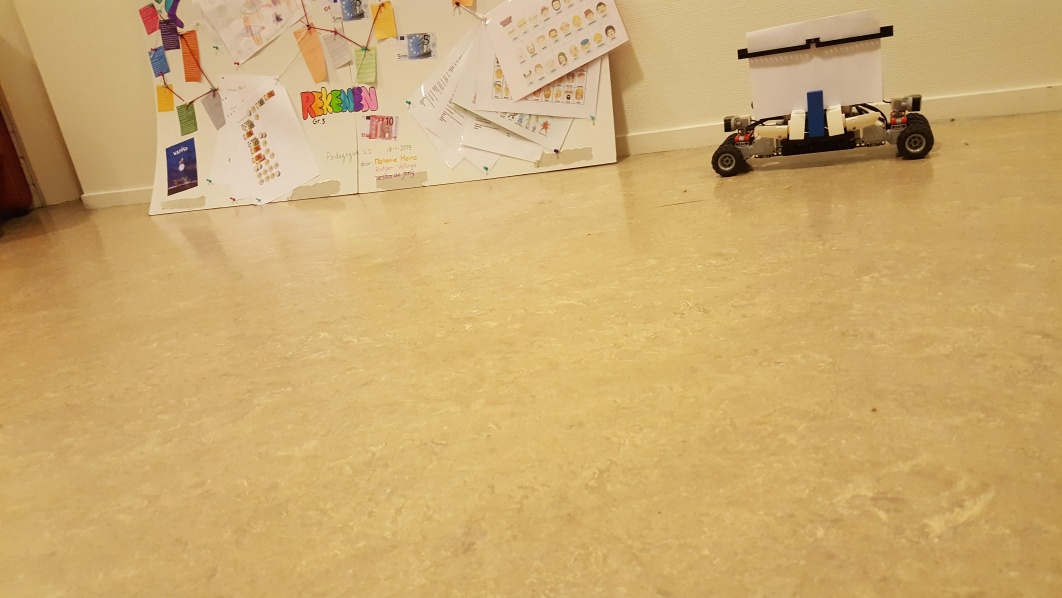car: (711, 10, 930, 169)
